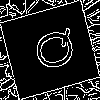Q: (25, 25, 79, 76)
